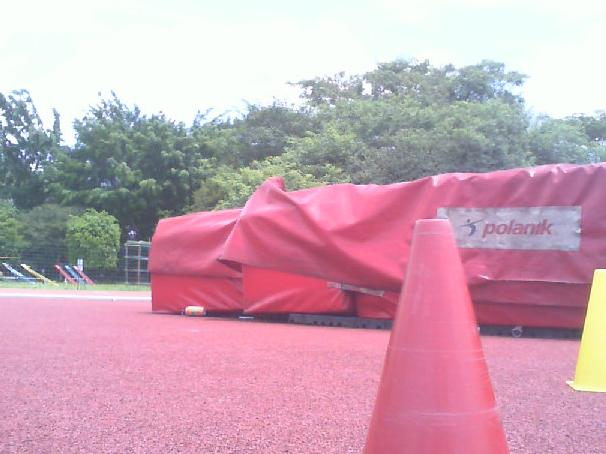0 cone: (358, 219, 511, 454), (564, 268, 606, 392)
